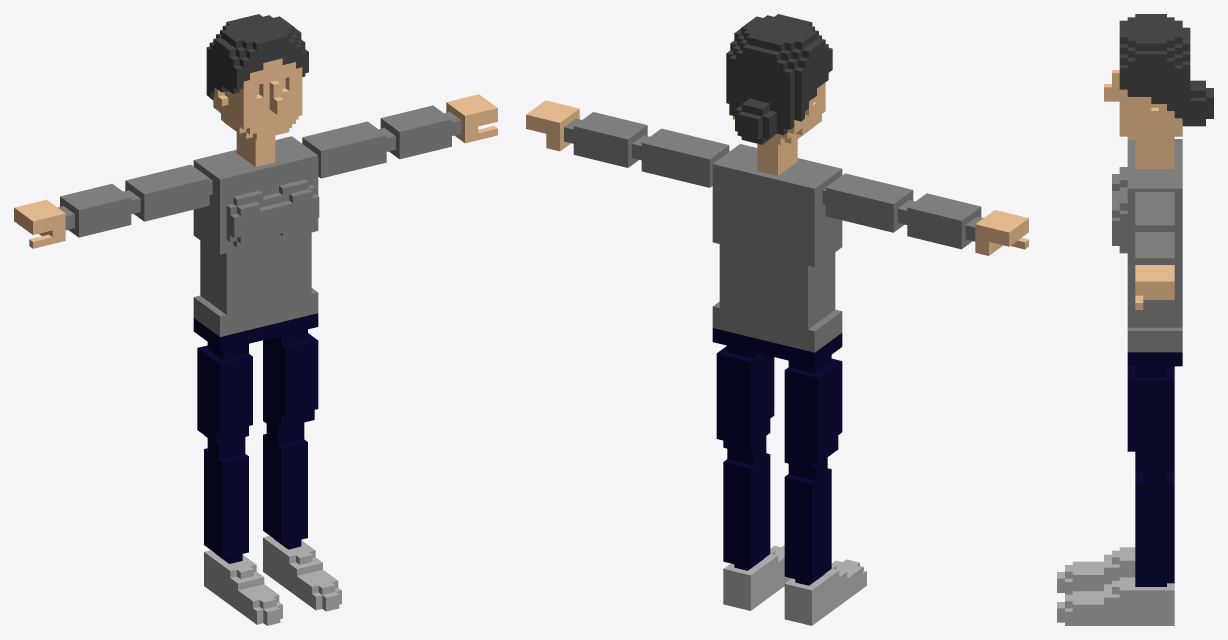
File: mother.obj
3 views of the same model, side by side, from view 1: azimuth 30°, elevation 25°; view 2: azimuth 150°, elevation 25°; view 3: azimuth 270°, elevation 25° (orthographic). The views are drawn at different scales.
Visible parts, largest first — view 1: mother; view 2: mother; view 3: mother.
Part boxes in pixels (box(x1,y1,x2,y2)): mother: box(14, 14, 497, 625); mother: box(526, 14, 1028, 625); mother: box(1057, 14, 1213, 625).
Size of the model in its own units: 71 by 81 by 20.
Materials: 1 (1 with a texture image).
